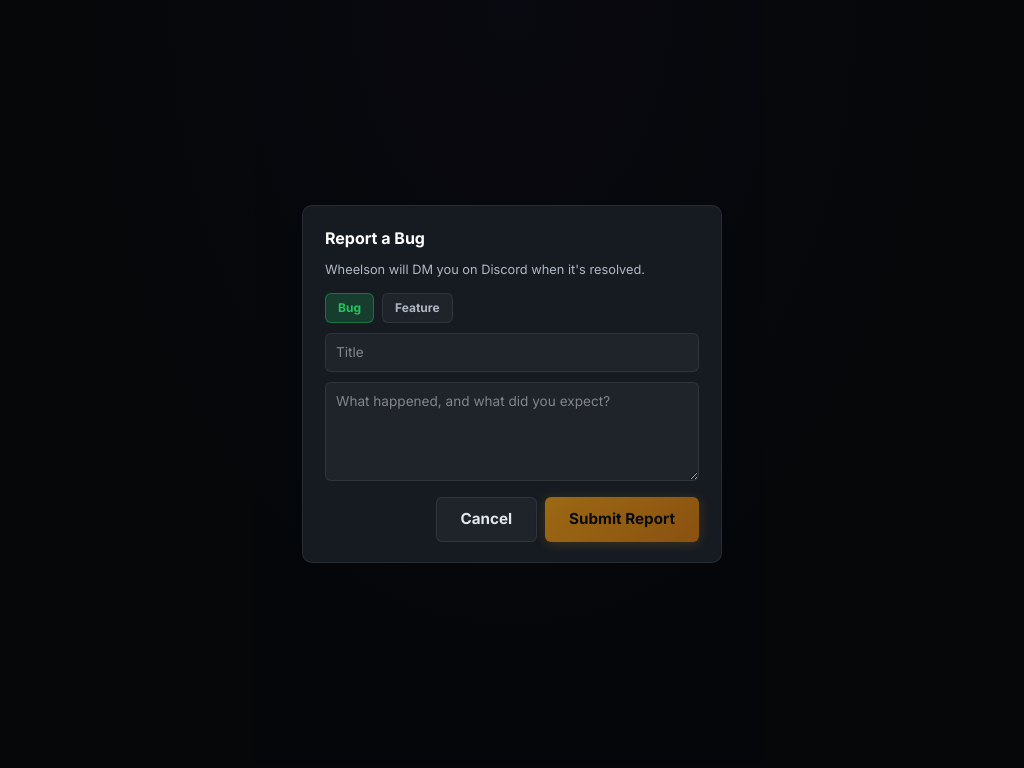
Scenario: ReportIssueDialog › keeps the form open with an error when sending fails
This screenshot has width=1024, height=768.
Type " Dark mode " into the field labelled "Title".
click(512, 352); type(" Dark mode ")  # box [325,333,699,372]
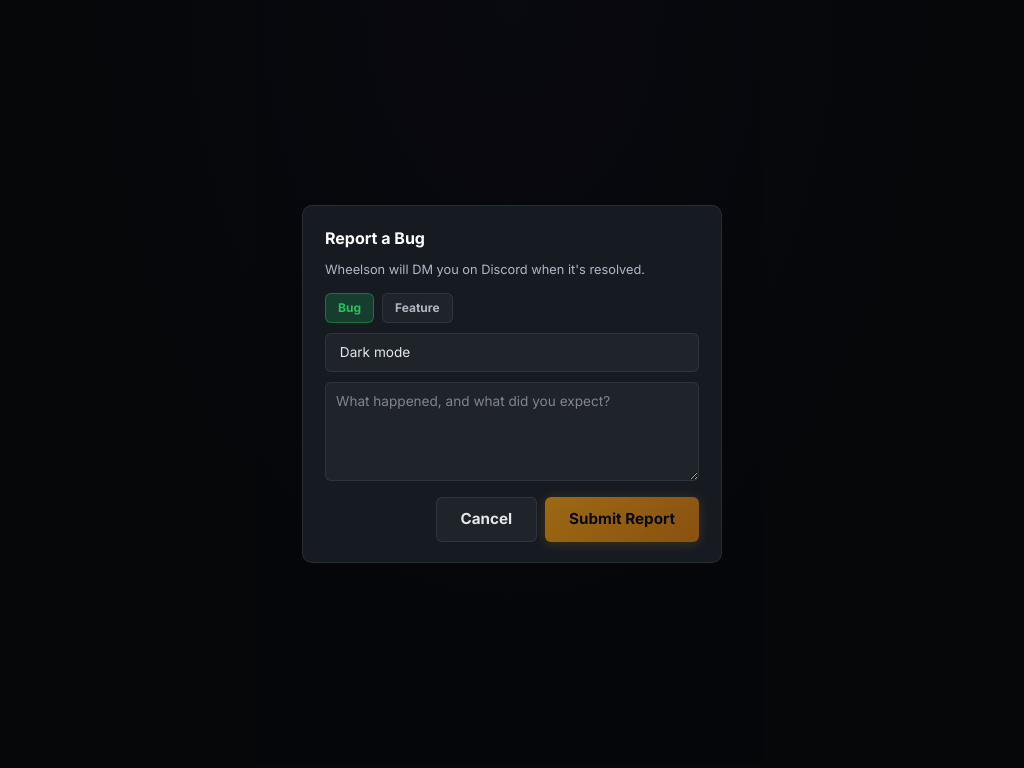
Type "Please" into the text box named "Description".
click(512, 431); type("Please")  # box [325,382,699,481]
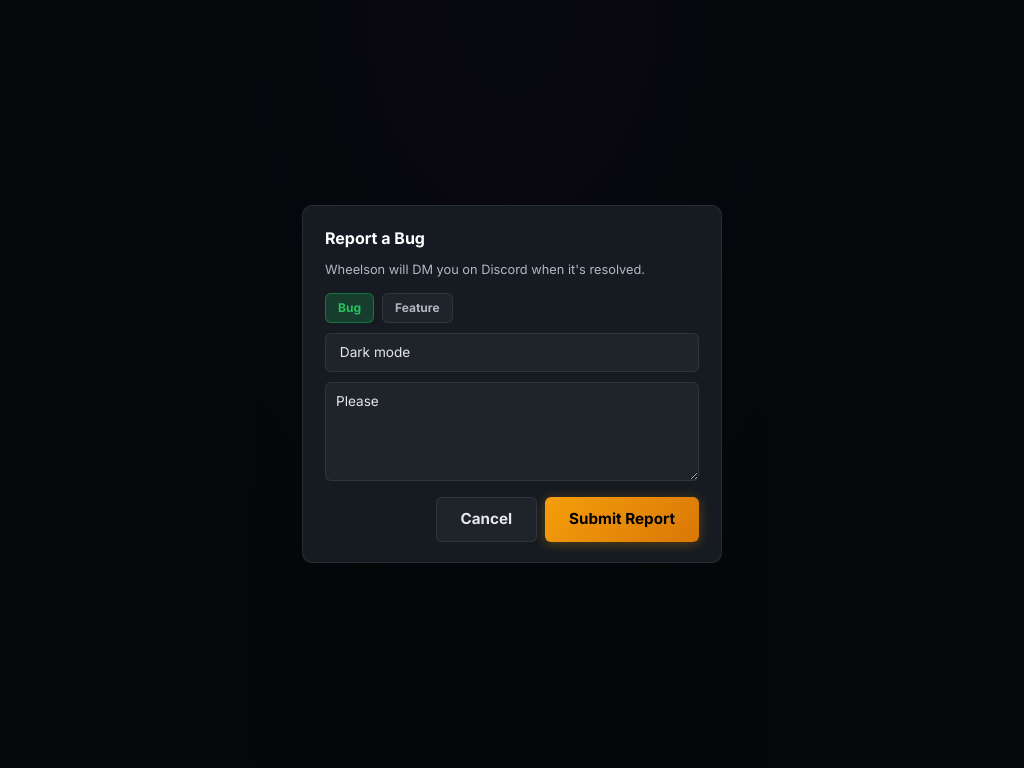
Click the button "Submit Report".
click(622, 520)  # box [545,497,699,542]
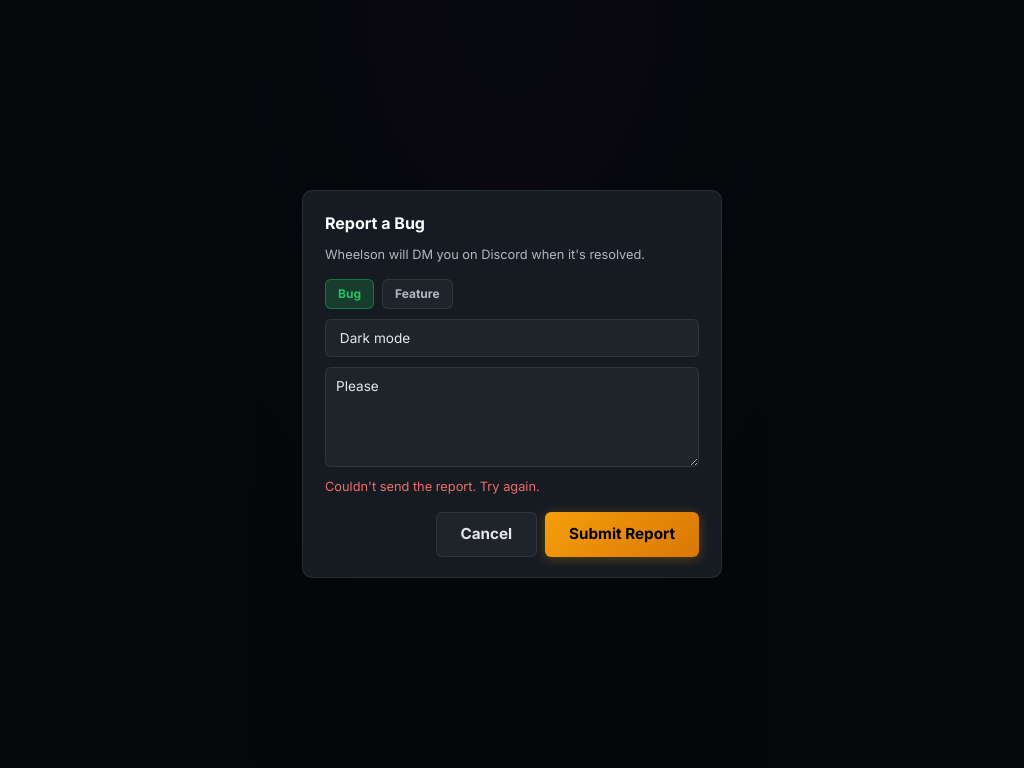
Expected: the message shows "Couldn't send", [325,479,540,494]
